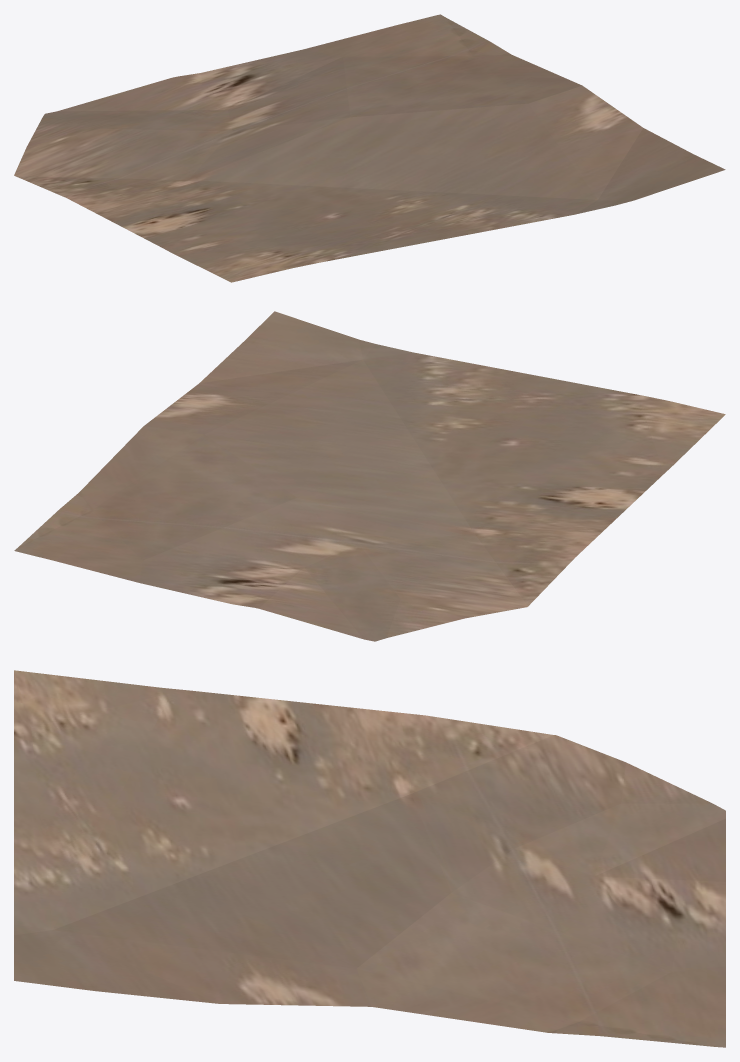
3 views of the same model, one above another, from view 1: azimuth 30°, elevation 25°; view 2: azimuth 150°, elevation 25°; view 3: azimuth 270°, elevation 25° (orthographic). The views are drawn at different scales.
Bounding box in the file's own units: 2.09 × 0.2616 × 2.09.
Materials: 3 (3 with a texture image).
